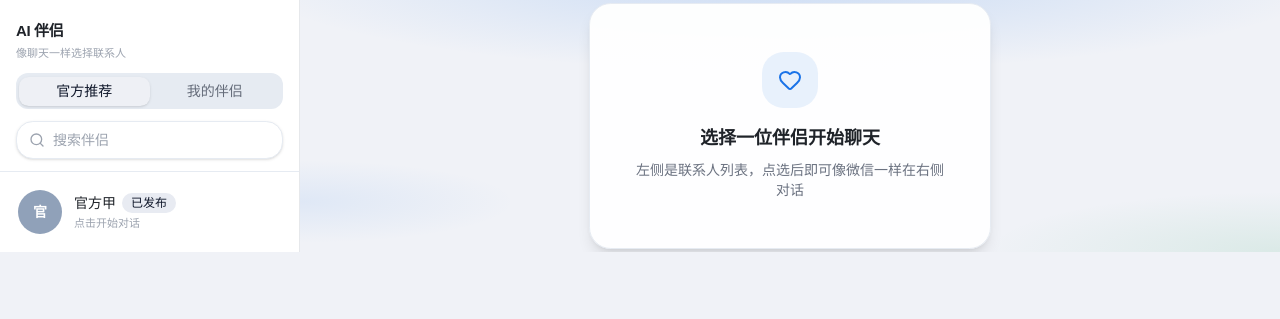
it: CompanionsWorkspace fetch discipline › 激活后才请求 official；切 mine 再切回 official 仍有列表且会再拉
Expected: the text "官方甲" is shown, [74,193,116,213]
Click the tab "我的伴侣": (215, 91) [150,76,280,106]
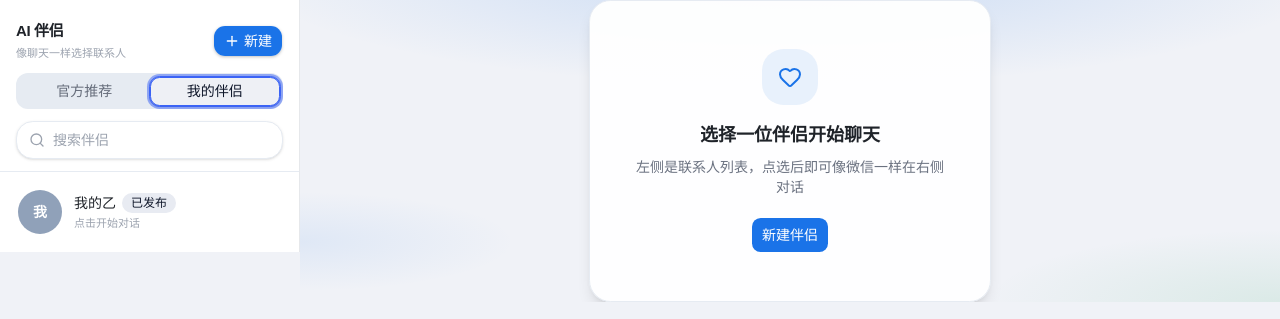
Expected: the text "我的乙" is shown, [74,193,116,213]
Click the tab "官方推荐": (84, 91) [19,76,150,106]
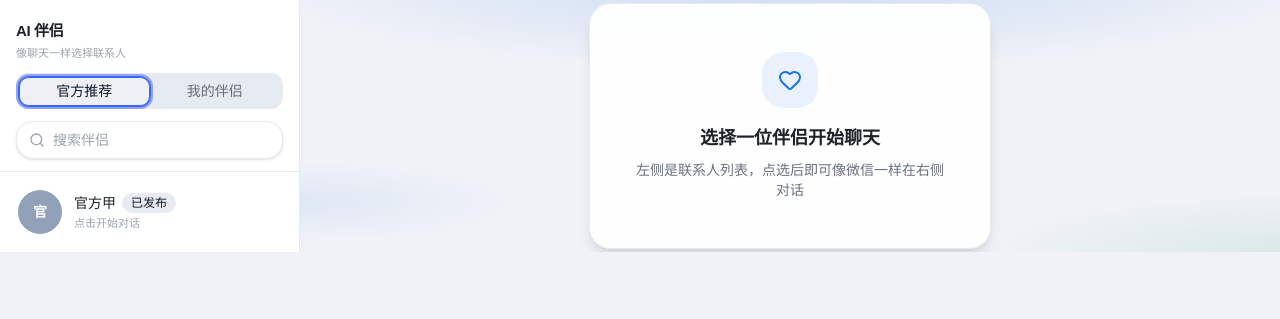
Expected: the text "官方甲" is shown, [74,193,116,213]
